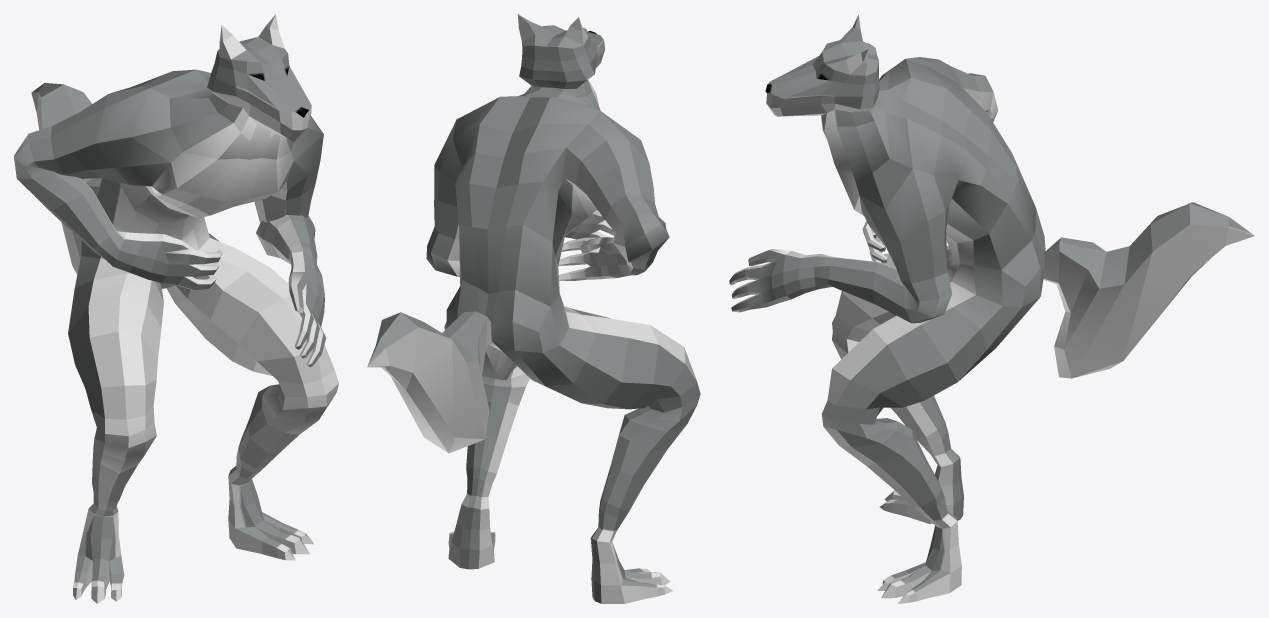
Rendered from WolfIdle_(80).obj.
3 renders of one model, left to right at view 1: azimuth 30°, elevation 25°; view 2: azimuth 150°, elevation 25°; view 3: azimuth 270°, elevation 25°, orthographic. The views are drawn at different scales.
Parts seen in each view (by area): view 1: Box001; view 2: Box001; view 3: Box001.
Boxes of the visible parts, <box> form: Box001: <box>14,14,338,603</box>; Box001: <box>367,14,700,603</box>; Box001: <box>729,14,1254,603</box>.
Bounding box in the file's own units: 66.74 × 132 × 116.
